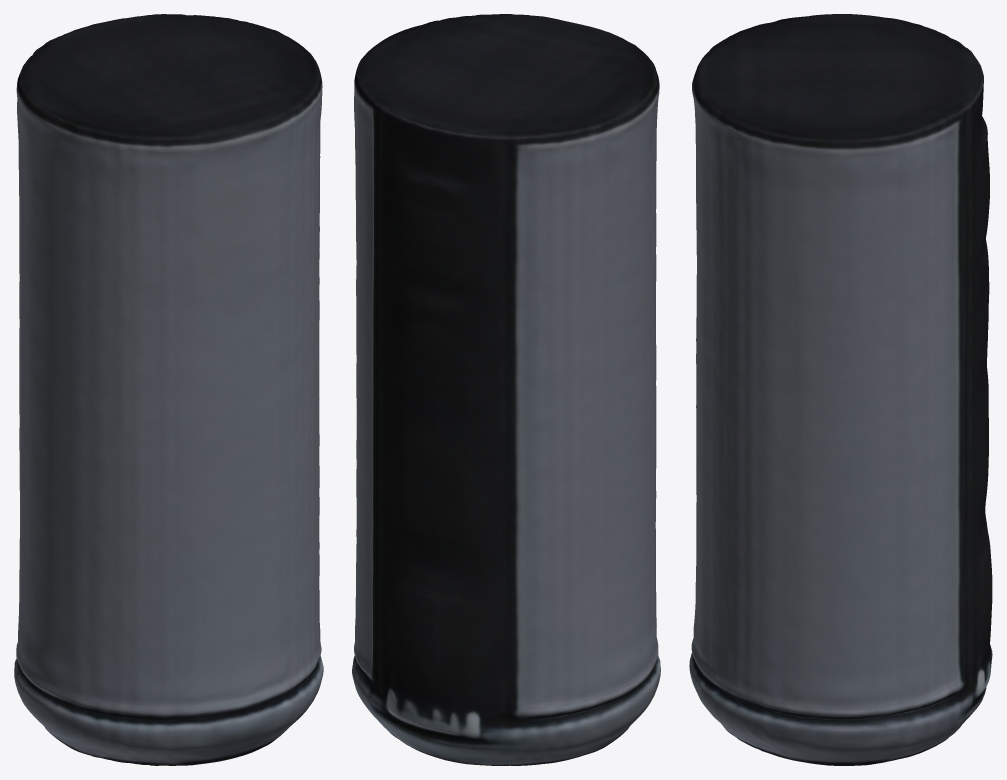
File: de1e0f832fe1_simple_modern_cylin.fbx
3 renders of one model, left to right at view 1: azimuth 30°, elevation 25°; view 2: azimuth 150°, elevation 25°; view 3: azimuth 270°, elevation 25°, orthographic.
Visible parts, largest first — view 1: high_poly; view 2: high_poly; view 3: high_poly.
Boxes of the visible parts, x1=… form: high_poly: x1=14, y1=14, x2=323, y2=765; high_poly: x1=352, y1=14, x2=660, y2=765; high_poly: x1=689, y1=14, x2=992, y2=765.
Size of the model in its own units: 43.58 by 100 by 43.01.
